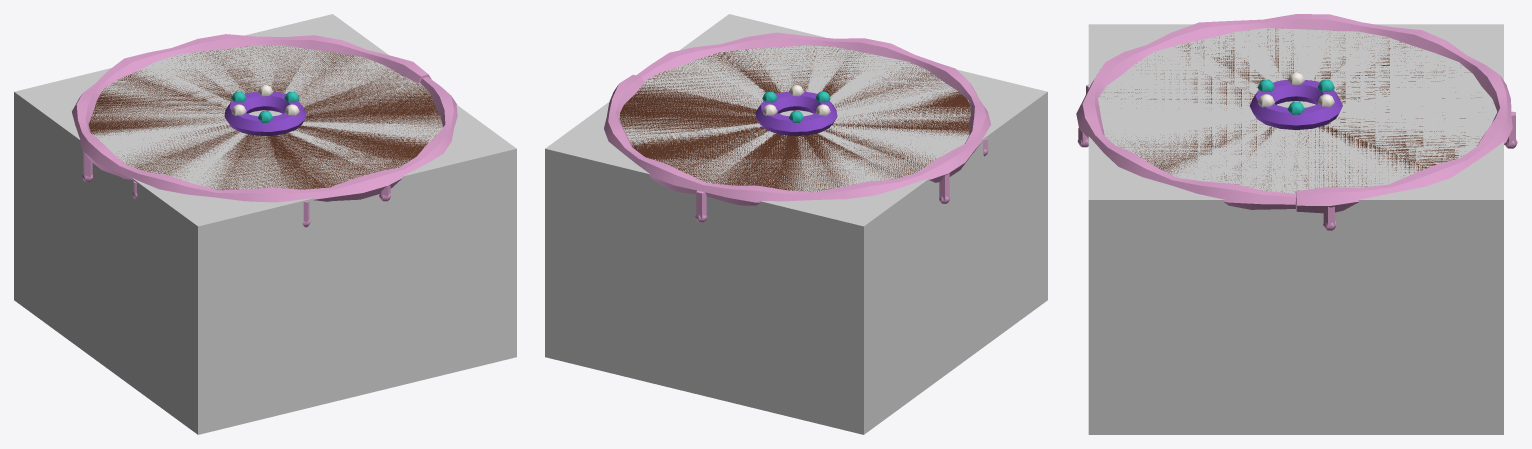
The model's file is Outdoor_Table.fbx.
3 renders of one model, left to right at view 1: azimuth 30°, elevation 25°; view 2: azimuth 150°, elevation 25°; view 3: azimuth 270°, elevation 25°, orthographic. The views are drawn at different scales.
Parts seen in each view (by area): view 1: COL_Outdoor_Table_0, Outdoor_Table_Top, Outdoor_Table_Decoration; view 2: COL_Outdoor_Table_0, Outdoor_Table_Top, Outdoor_Table_Decoration; view 3: COL_Outdoor_Table_0, Outdoor_Table_Decoration, Outdoor_Table_Top.
Boxes of the visible parts, <box> form: COL_Outdoor_Table_0: <box>14,14,516,434</box>; Outdoor_Table_Top: <box>88,45,441,190</box>; Outdoor_Table_Decoration: <box>72,34,457,227</box>; COL_Outdoor_Table_0: <box>545,14,1047,434</box>; Outdoor_Table_Top: <box>619,46,970,191</box>; Outdoor_Table_Decoration: <box>604,32,991,222</box>; COL_Outdoor_Table_0: <box>1088,24,1503,434</box>; Outdoor_Table_Decoration: <box>1076,14,1517,230</box>; Outdoor_Table_Top: <box>1103,28,1481,192</box>.
Bounding box in the file's own units: 1.27 × 0.86 × 1.28.
